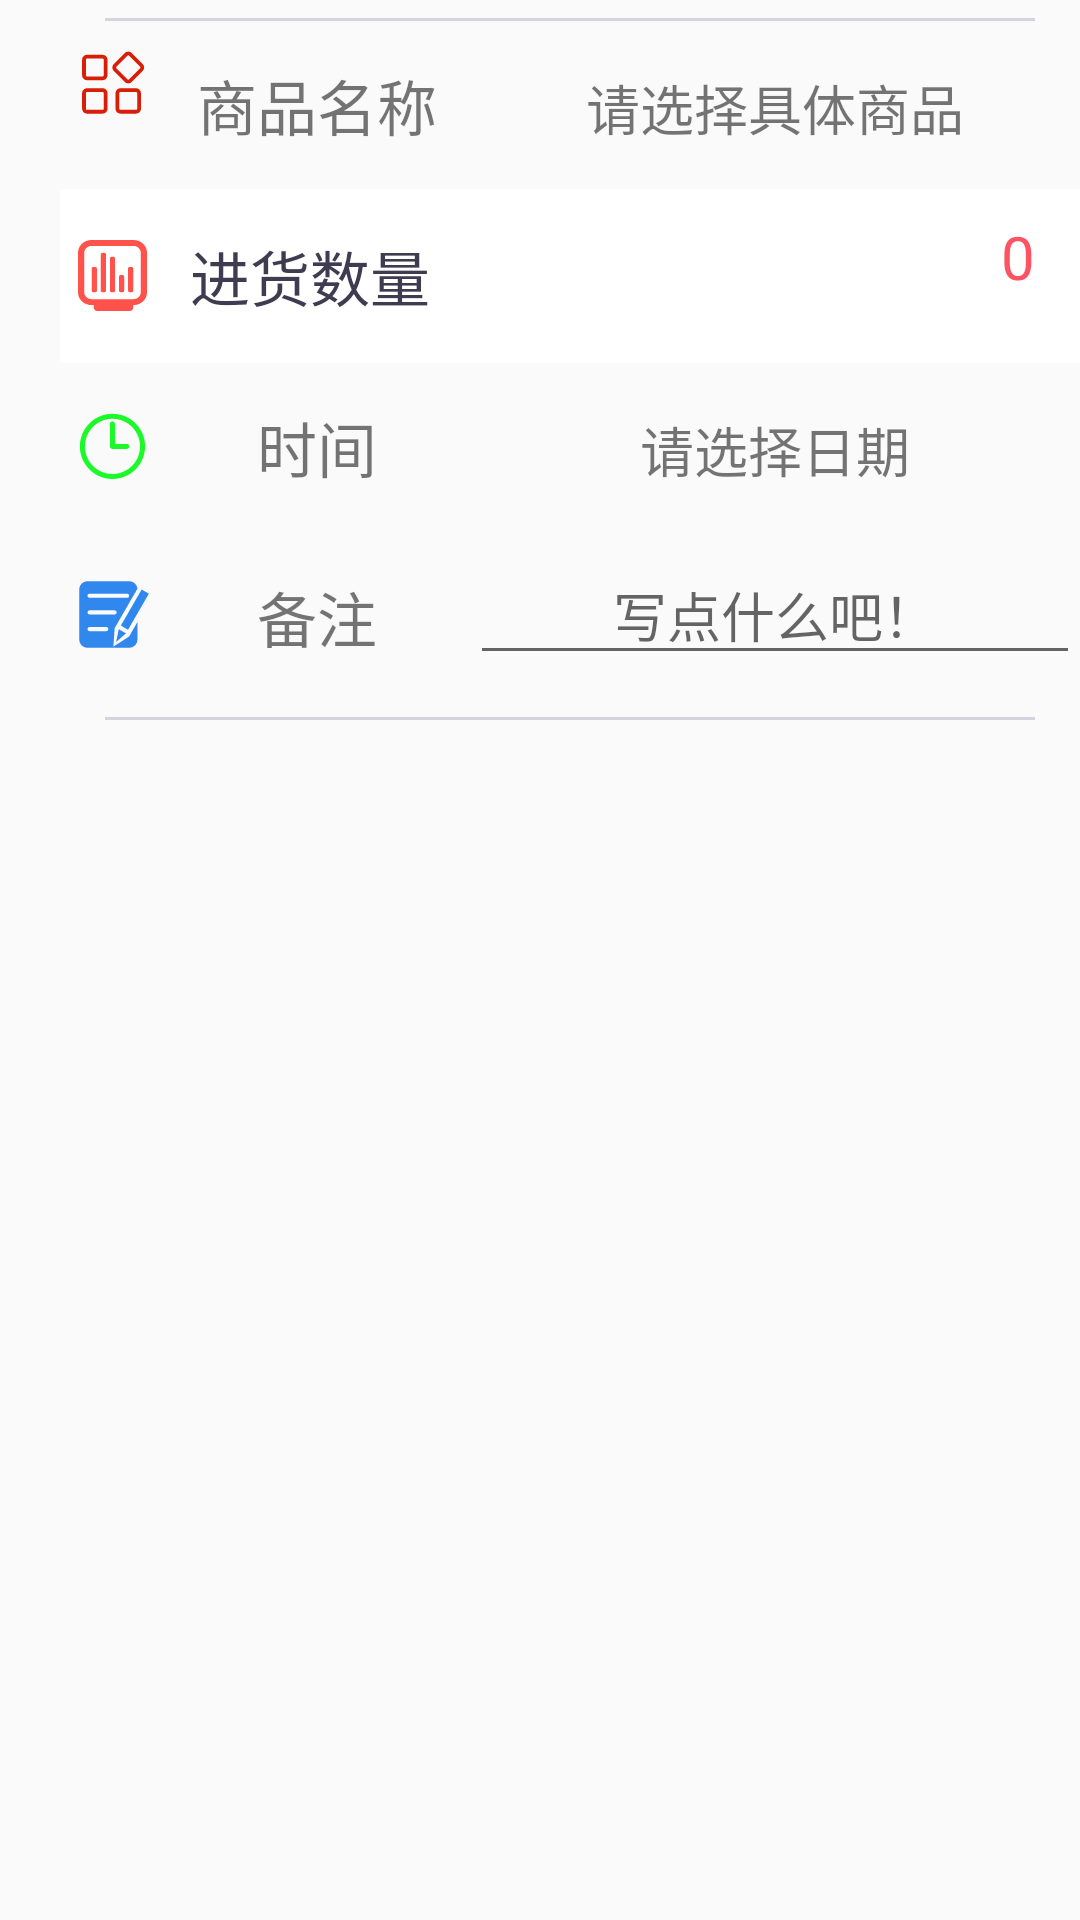

Screen size 1080w x 1920h. Icon name, then its center in pixels as point (x, y):
category: point (113, 82)
count: point (112, 275)
note: point (114, 614)
time: point (112, 446)
